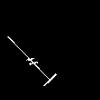treble_crochet: (8, 37, 55, 85)
